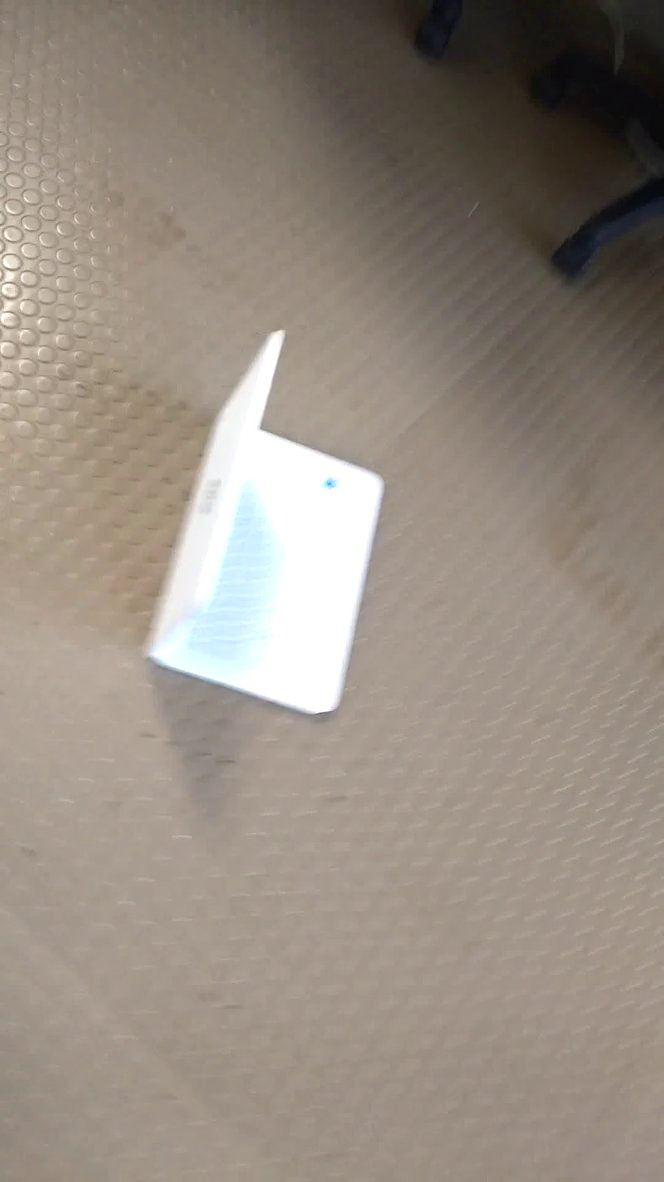laptop: (135, 323, 392, 729)
